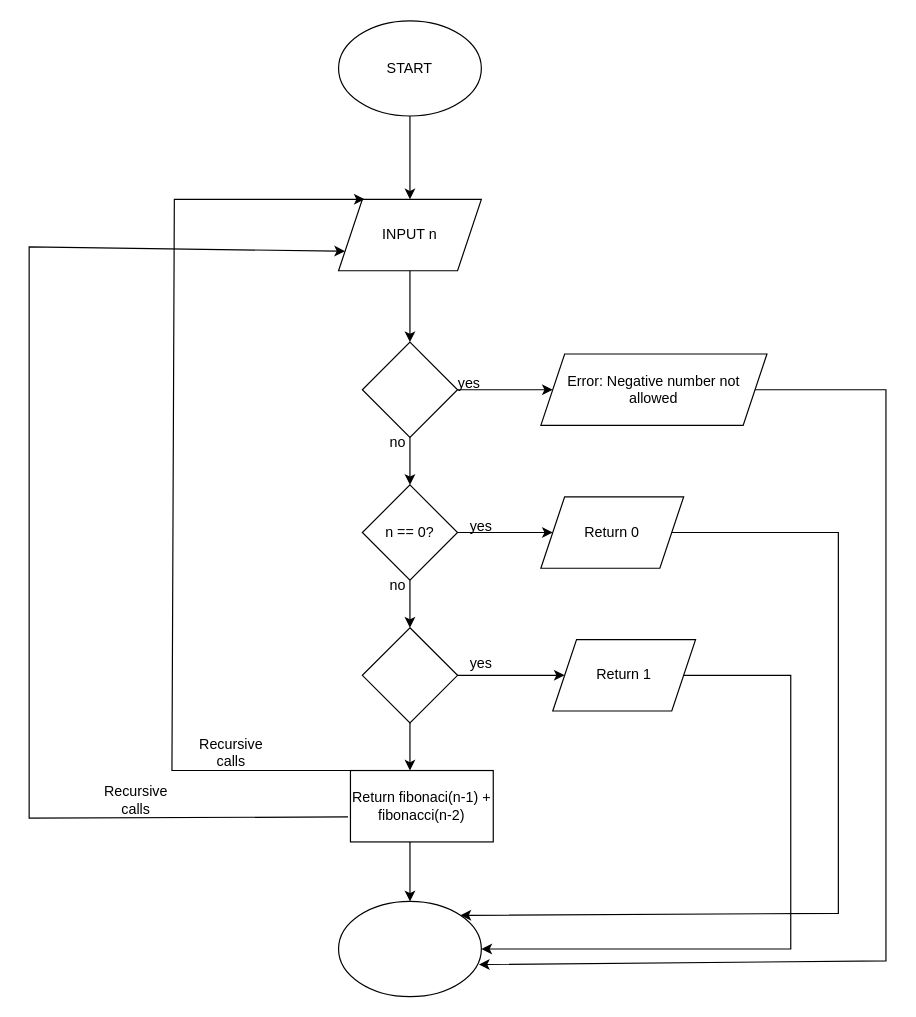
This 916x1017 diagram has some shape labels left out. Each missing label, with the centre of its shape:
END: (409,948)
n < 0?: (409,389)
n == 1: (409,675)
